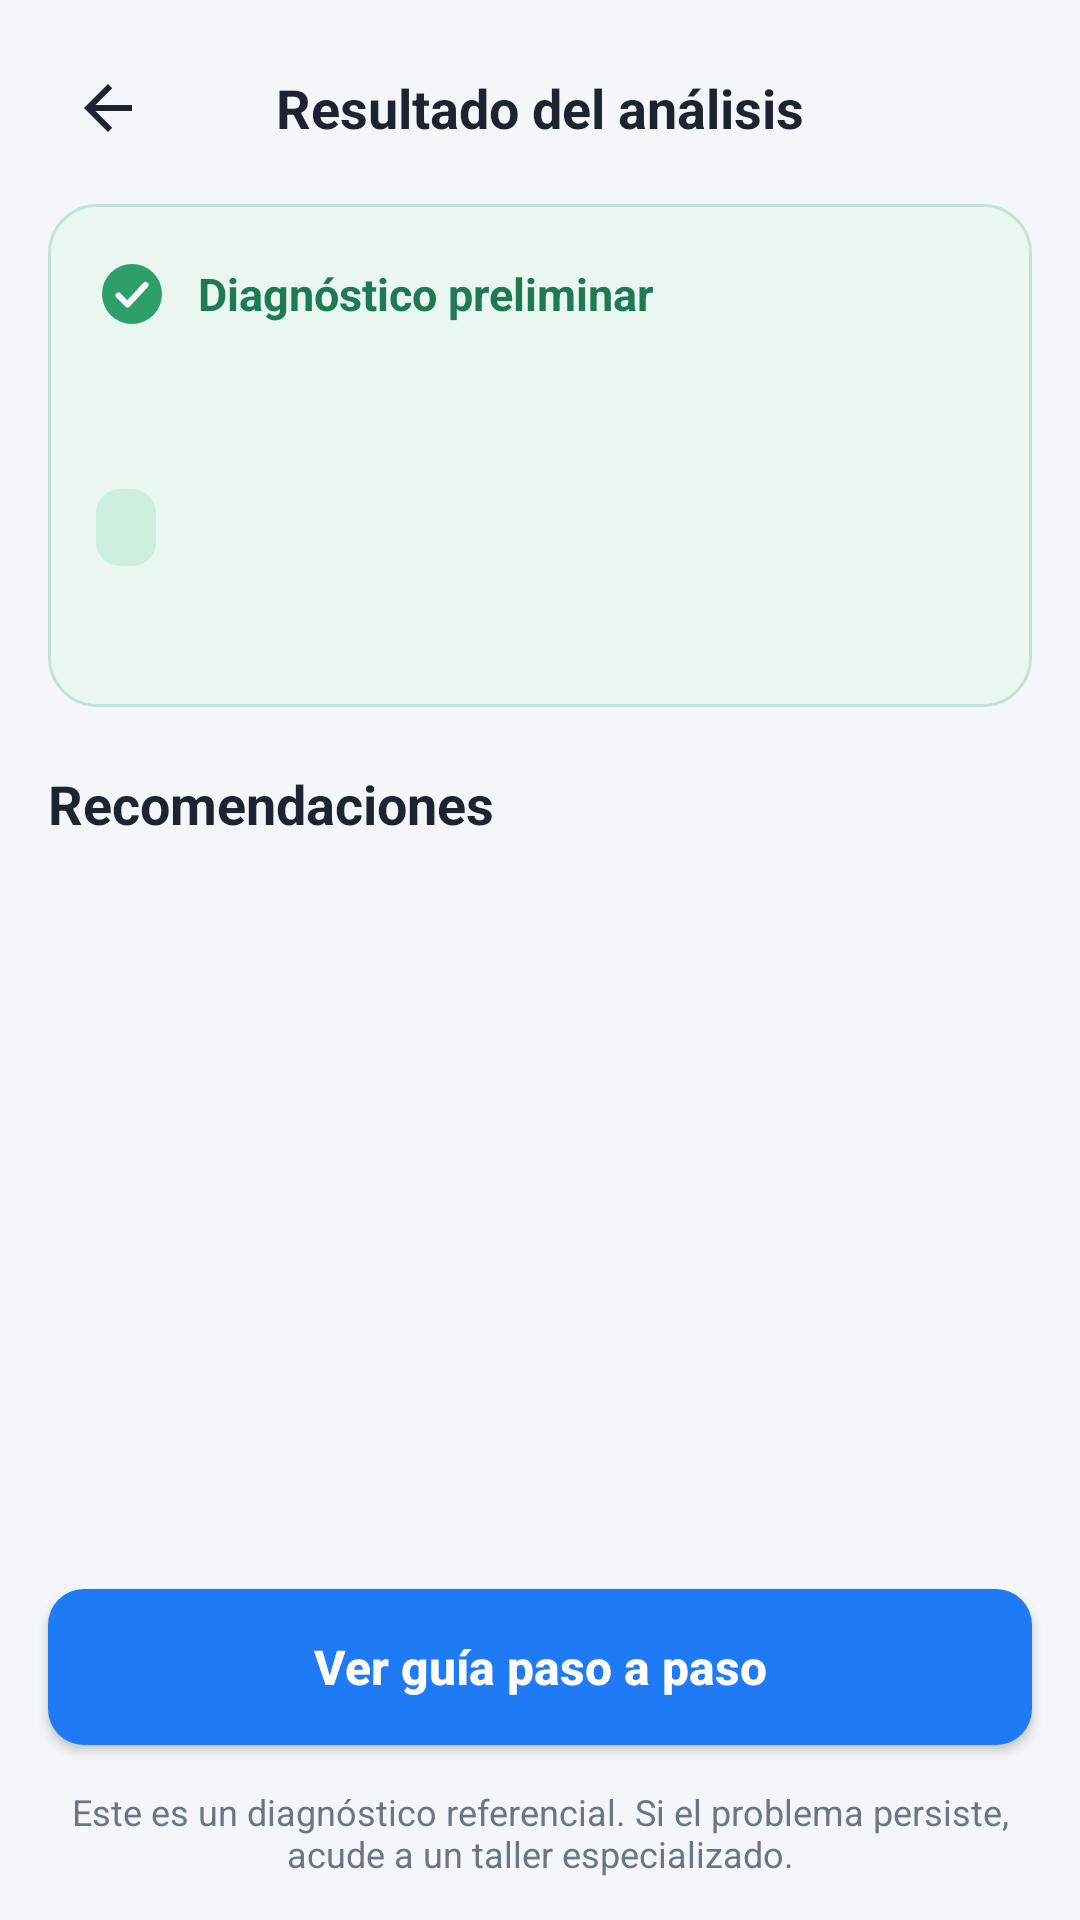

Locate icon controls on the screen. Image size 1080*1920, boxes as bbox=[x1, y1, x2, y2].
check verde: bbox=[102, 264, 162, 324]
Volver: bbox=[84, 84, 132, 132]
